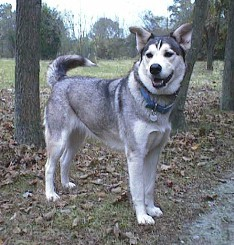dog: (40, 20, 193, 227)
